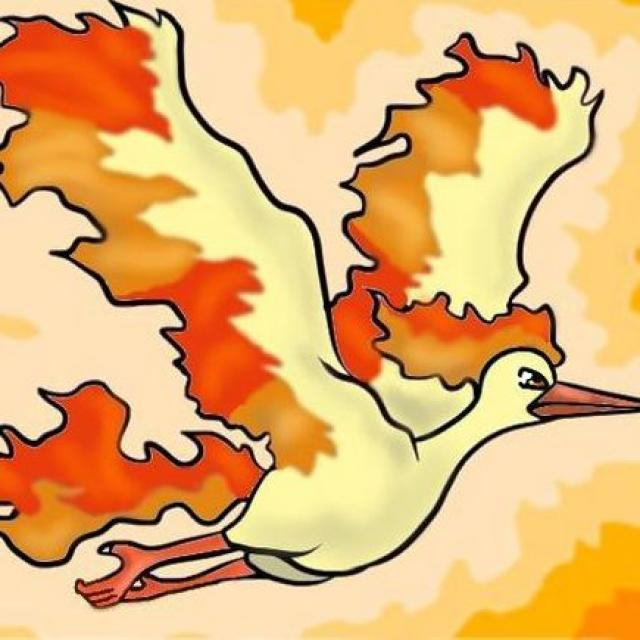Moltres: (0, 17, 632, 620)
